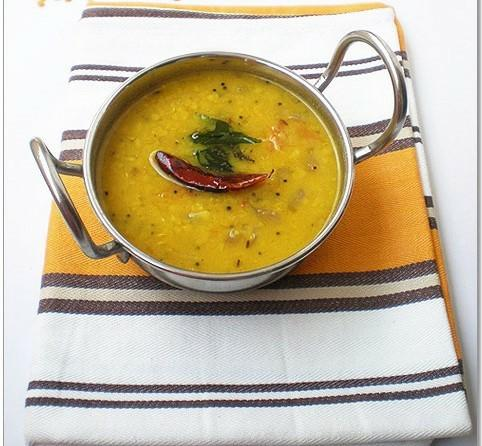Dal: (96, 70, 339, 273)
